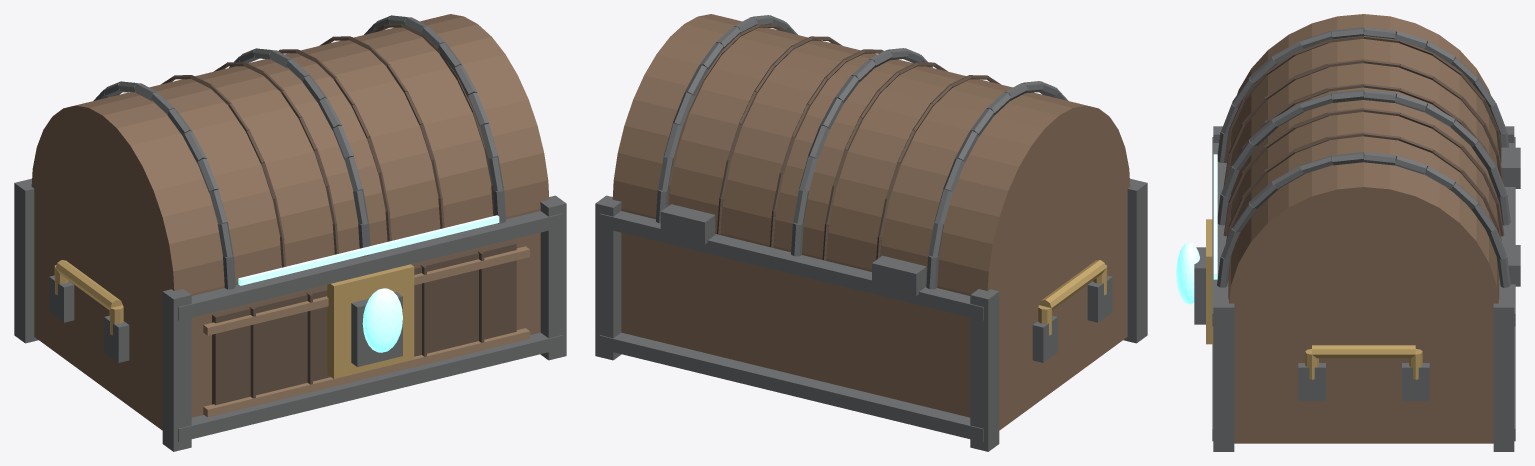
Rendered from Midgard_Forgotten_Cache_Chest_V3_YUP.glb.
3 views of the same model, side by side, from view 1: azimuth 30°, elevation 25°; view 2: azimuth 150°, elevation 25°; view 3: azimuth 270°, elevation 25° (orthographic). The views are drawn at different scales.
Parts seen in each view (by area): view 1: Rounded_Lid, Body, Front_Recess, Front_Frame_1.2, Front_Frame_0.1, Lock_Backplate, Front_Corner_-1.775, Front_Corner_1.775, Oak_Rail_0.22, Rear_Corner_-1.775, Oak_Rail_0.96, Inner_Glow_Seam (+5 smaller); view 2: Rounded_Lid, Body, Rear_Frame_0.1, Rear_Frame_1.2, Rear_Corner_-1.775, Rear_Corner_1.775, Front_Corner_-1.775, Hinge_1.0, Hinge_-1.0, HandleTop_-1, HandlePlateA_-1, HandlePlateB_-1; view 3: Rounded_Lid, Body, Rear_Corner_1.775, Front_Corner_1.775, HandleTop_1, Front_Frame_1.2, Runic_Gem, HandlePlateA_1, HandlePlateB_1, Rear_Frame_1.2, Lock_Backplate, Lock_Iron (+5 smaller).
Part boxes in pixels (x1,y1,x2,y2): Rounded_Lid: (31,14,549,293); Body: (34,195,540,430); Front_Recess: (212,241,516,405); Front_Frame_1.2: (178,211,562,320); Front_Frame_0.1: (178,332,562,442); Lock_Backplate: (327,264,414,378); Front_Corner_-1.775: (162,289,191,451); Front_Corner_1.775: (540,195,566,360); Oak_Rail_0.22: (203,328,529,417); Rear_Corner_-1.775: (14,178,38,343); Oak_Rail_0.96: (203,246,529,335); Inner_Glow_Seam: (238,215,499,285); Rounded_Lid: (612,14,1130,293); Body: (621,195,1127,430); Rear_Frame_0.1: (599,332,983,442); Rear_Frame_1.2: (599,211,983,320); Rear_Corner_-1.775: (970,289,999,451); Rear_Corner_1.775: (595,195,621,360); Front_Corner_-1.775: (1123,178,1147,343); Hinge_1.0: (660,204,715,244); Hinge_-1.0: (872,255,926,295); HandleTop_-1: (1039,260,1106,310); HandlePlateA_-1: (1087,275,1112,322); HandlePlateB_-1: (1032,315,1057,362); Rounded_Lid: (1228,14,1499,309); Body: (1234,310,1493,443); Rear_Corner_1.775: (1493,299,1514,451); Front_Corner_1.775: (1213,299,1234,451); HandleTop_1: (1312,345,1415,358); Front_Frame_1.2: (1212,137,1228,326); Runic_Gem: (1176,242,1199,304); HandlePlateA_1: (1298,363,1325,401); HandlePlateB_1: (1402,363,1429,401); Rear_Frame_1.2: (1499,137,1515,326); Lock_Backplate: (1206,219,1213,344); Lock_Iron: (1194,247,1205,324).
Bounding box in the file's own units: 3.93 × 2.59 × 2.99.
